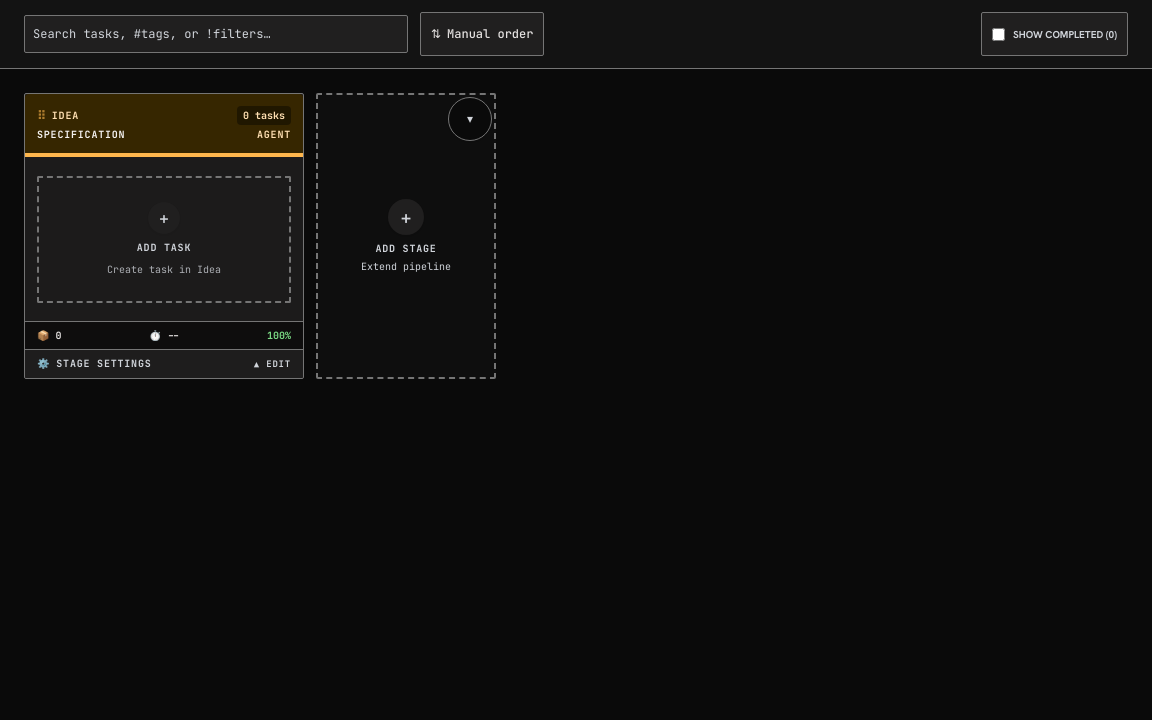
Test case: failed model fetch falls back to the de-staled curated list (no stale providers)
Click the button with aria-label "Configure stage Idea" at (104, 364), box [25,350,303,378]
(page scrolled)
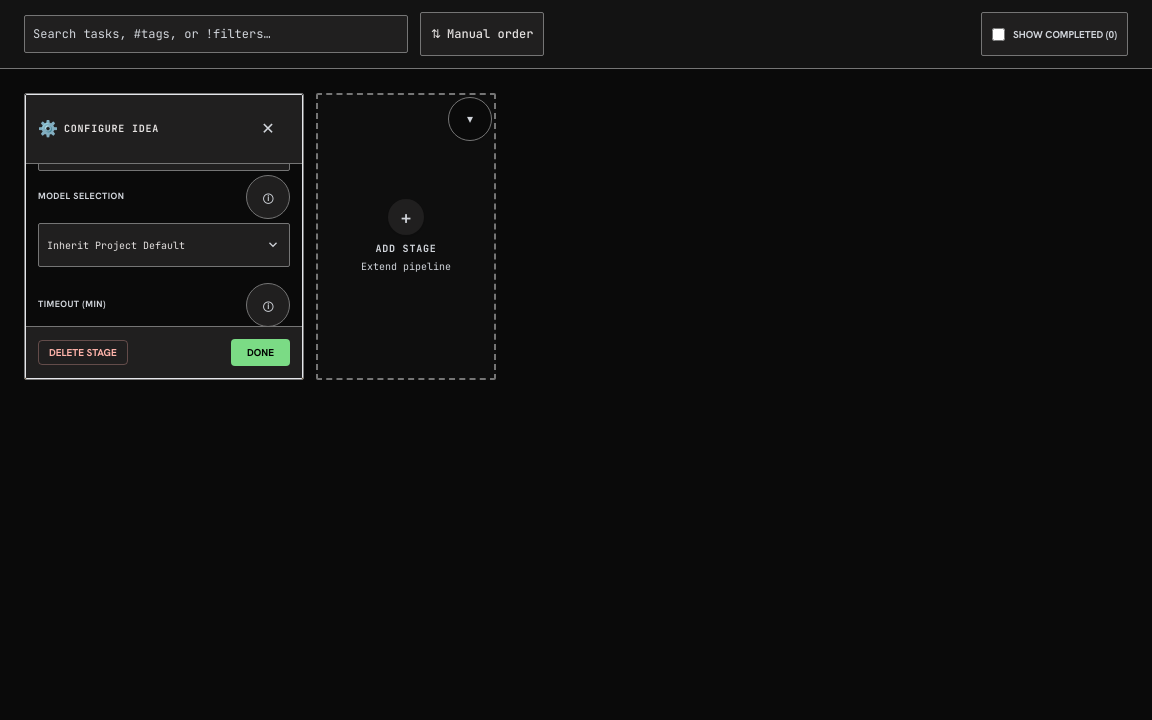
Expected: the dropdown named "Model for Idea" is enabled
Click the dropdown named "Model for Idea" at (164, 245), box [38,223,290,267]
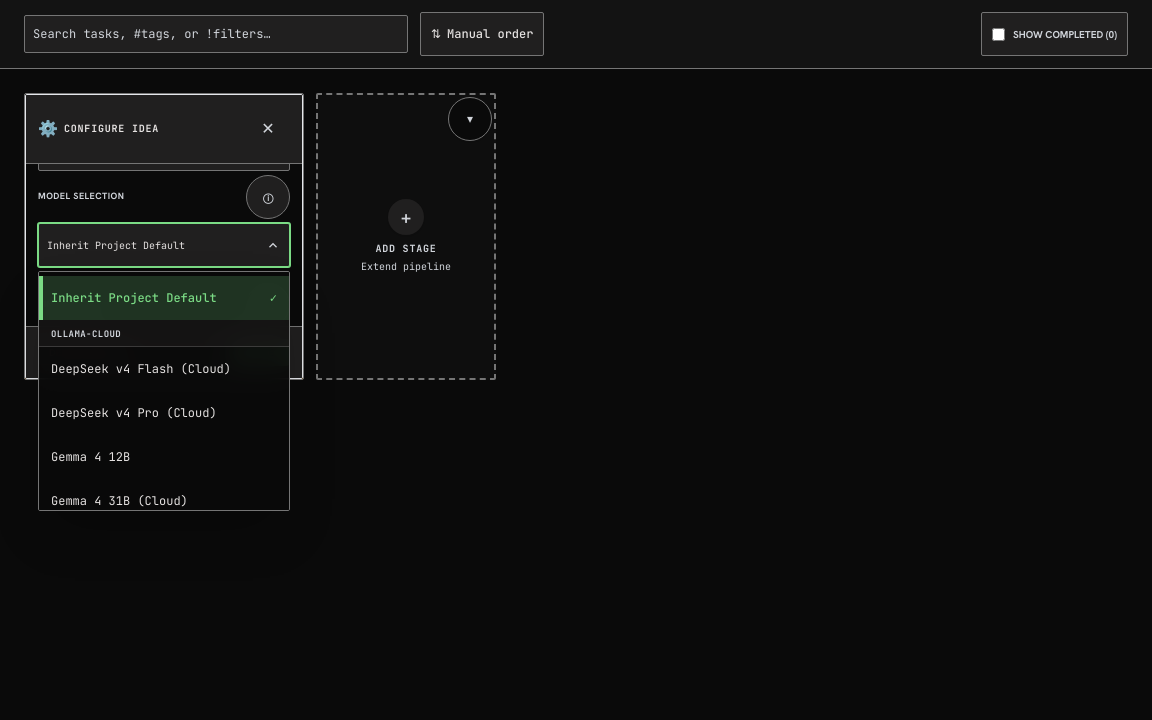
Expected: the list is shown, [38,271,290,511]
Expected: the text "ollama-cloud" is shown, [39,320,289,346]
Expected: the option "Inherit Project Default ✓" is shown, [39,276,289,320]
